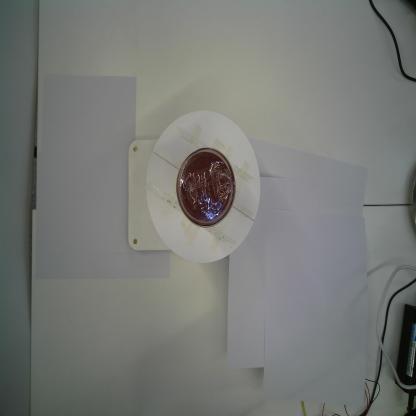Instant Drink: (174, 142, 238, 233)
